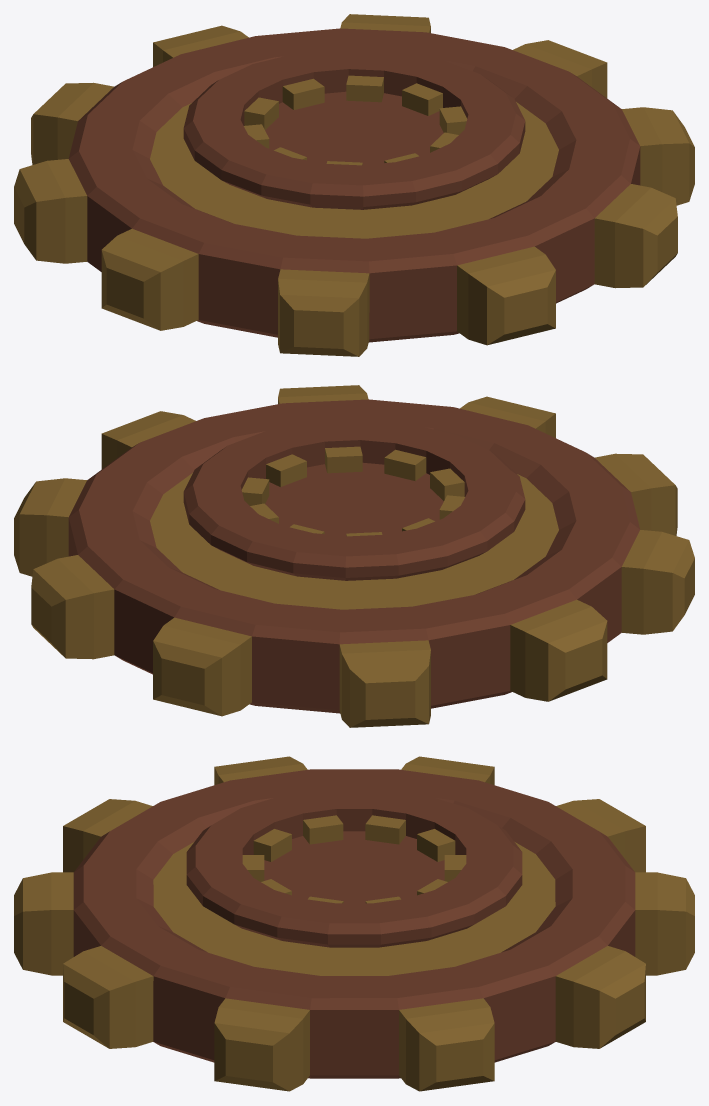
The model's file is cog_3.fbx.
The picture shows the model from 3 angles, top to bottom: view 1: azimuth 30°, elevation 25°; view 2: azimuth 150°, elevation 25°; view 3: azimuth 270°, elevation 25°; orthographic projection.
Visible parts, largest first — view 1: Cylinder; view 2: Cylinder; view 3: Cylinder.
Boxes of the visible parts, left/top/right/bottom form: Cylinder: left=14, top=14, right=694, bottom=356; Cylinder: left=14, top=385, right=694, bottom=727; Cylinder: left=14, top=756, right=694, bottom=1091.
Size of the model in its own units: 417 by 94.09 by 428.
